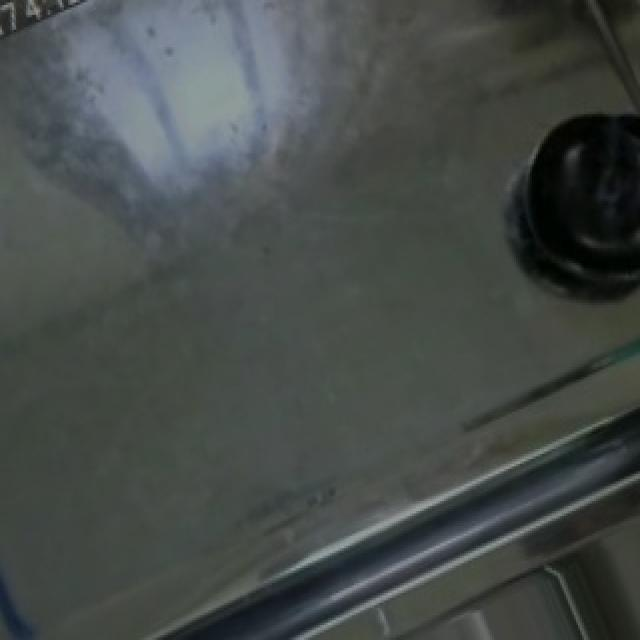Fruit: (508, 94, 640, 293)
